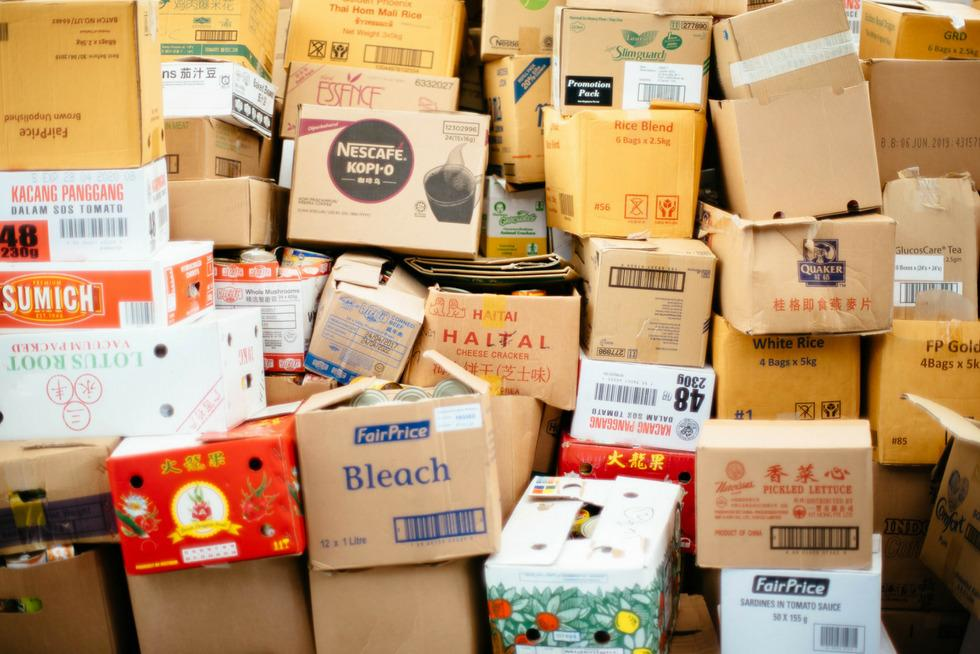cardboard: (0, 235, 262, 500), (696, 419, 891, 653), (0, 0, 167, 259), (701, 206, 894, 418), (543, 7, 710, 235), (296, 384, 500, 568), (710, 0, 880, 217), (485, 477, 681, 653), (867, 169, 979, 464), (107, 413, 305, 573), (571, 237, 716, 447), (287, 105, 488, 254), (156, 0, 277, 246), (403, 286, 580, 408), (309, 557, 489, 653), (305, 254, 425, 382), (0, 543, 137, 653)
